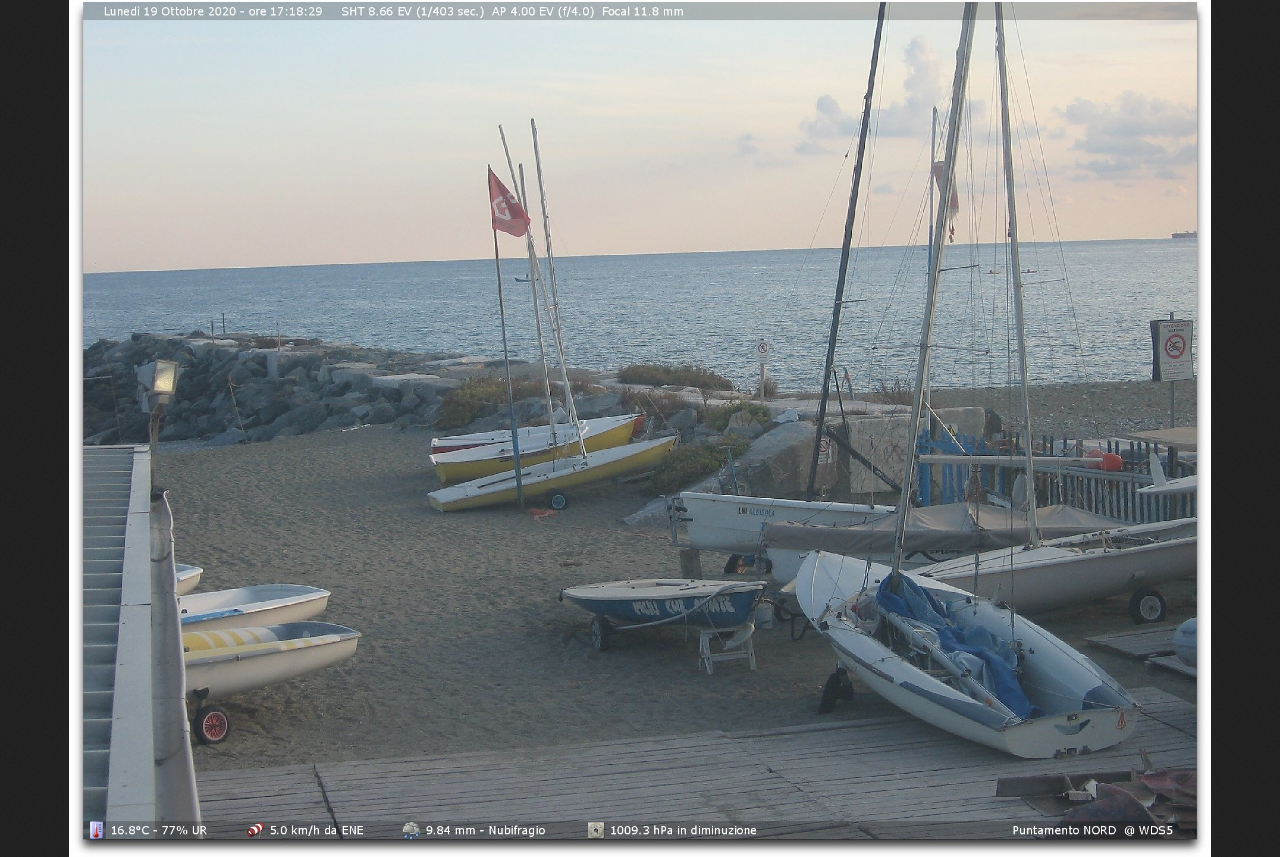maybe: (478, 155, 539, 249)
